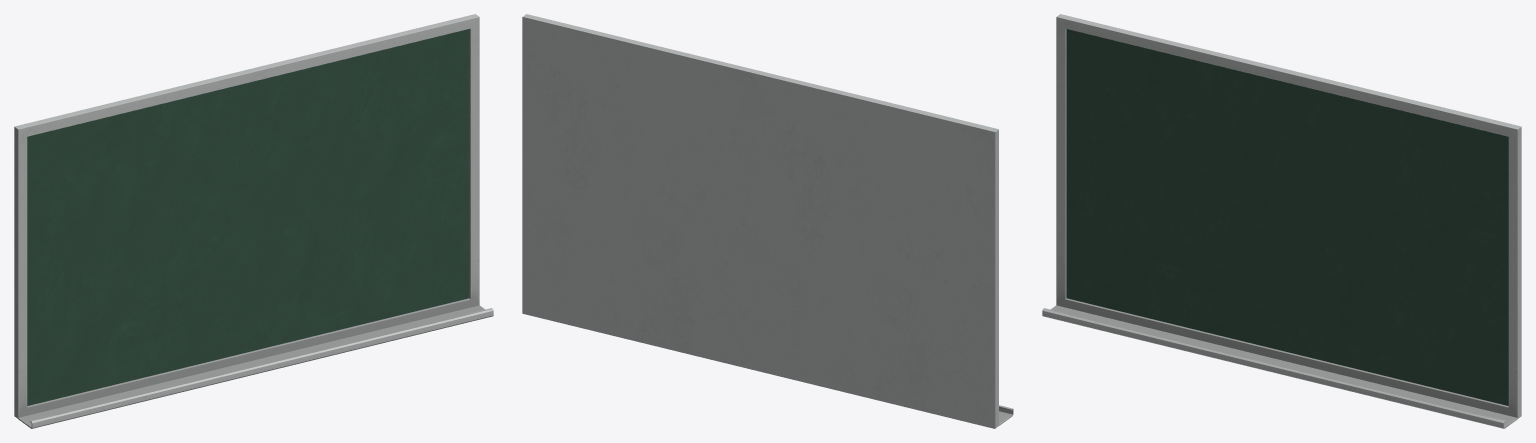
The model's file is Blackboard_200.FBX.
The picture shows the model from 3 angles, left to right: view 1: azimuth 30°, elevation 25°; view 2: azimuth 150°, elevation 25°; view 3: azimuth 330°, elevation 25°; orthographic projection. The views are drawn at different scales.
Visible parts, largest first — view 1: Blackboard_200; view 2: Blackboard_200; view 3: Blackboard_200.
Boxes of the visible parts, x1,y1,x2,y2 form: Blackboard_200: (14, 14, 493, 428); Blackboard_200: (522, 14, 1013, 428); Blackboard_200: (1042, 14, 1521, 428).
Bounding box in the file's own units: 200 × 120 × 13.46.
